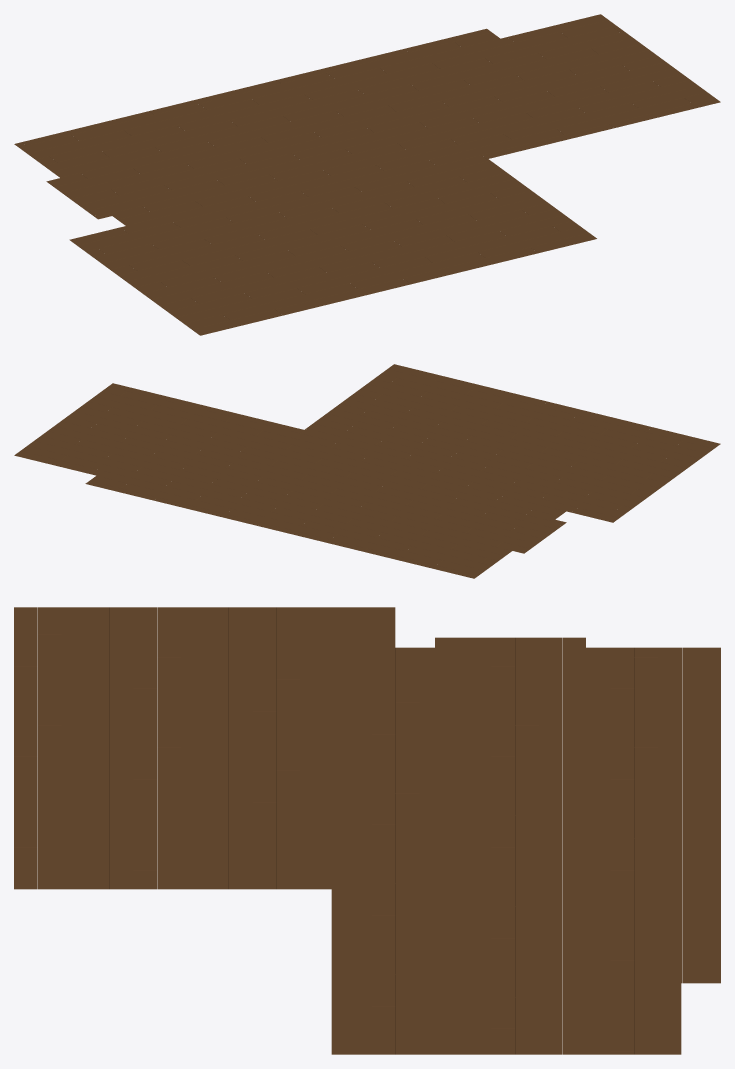
Rendered from Floor2.fbx.
3 renders of one model, top to bottom at view 1: azimuth 30°, elevation 25°; view 2: azimuth 150°, elevation 25°; view 3: azimuth 270°, elevation 25°, orthographic. The views are drawn at different scales.
Visible parts, largest first — view 1: Parquet; view 2: Parquet; view 3: Parquet.
Part boxes in pixels (<box>): Parquet: <box>14,14,720,335</box>; Parquet: <box>14,364,720,578</box>; Parquet: <box>14,607,720,1054</box>.
Bounding box in the file's own units: 666 × 0.15 × 445.
